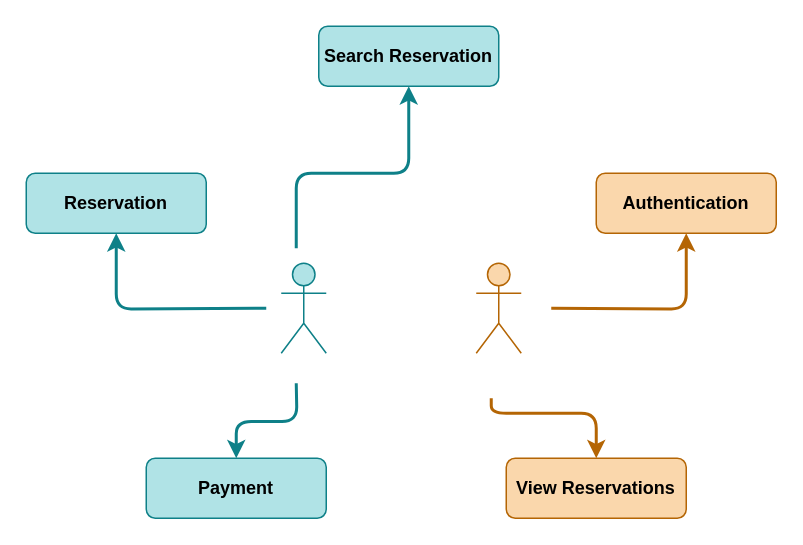
Image size: 803x545. Some labels were removed from this diagram. The shapes that lost their labels are listed below. From the top down, each one's box as (x1, y1, x2, y2) in pixels, then its label:
(280, 262, 326, 353): Customer
(475, 262, 521, 353): Employee
